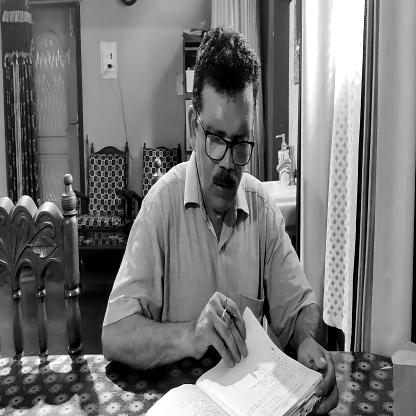Normal: (194, 71, 260, 219)
